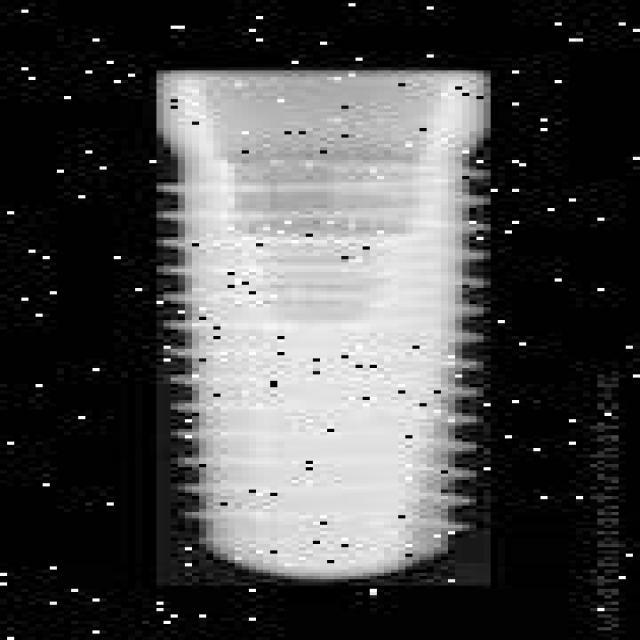Root canal obturation: (147, 70, 491, 588)
